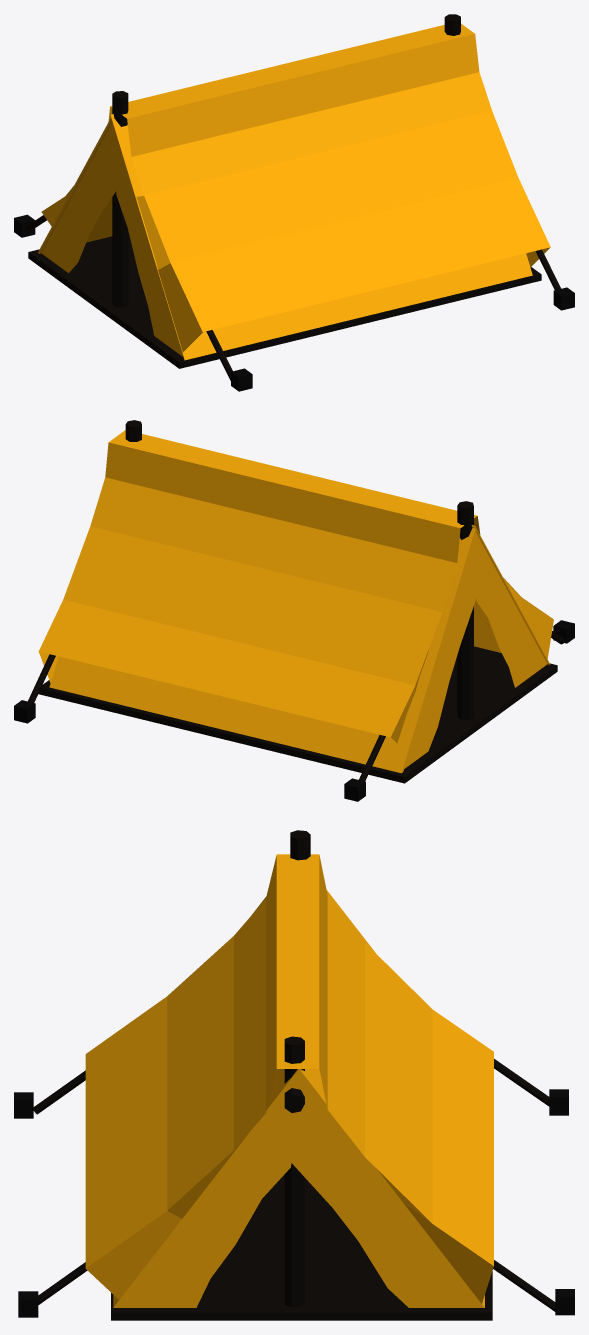
Rendered from Camp.obj.
3 views of the same model, one above another, from view 1: azimuth 30°, elevation 25°; view 2: azimuth 150°, elevation 25°; view 3: azimuth 270°, elevation 25° (orthographic). The views are drawn at different scales.
Parts seen in each view (by area): view 1: Cube.003_Cube.006; view 2: Cube.003_Cube.006; view 3: Cube.003_Cube.006.
Boxes of the visible parts, <box> form: Cube.003_Cube.006: <box>14,14,574,391</box>; Cube.003_Cube.006: <box>14,420,574,801</box>; Cube.003_Cube.006: <box>14,830,574,1320</box>.
Size of the model in its own units: 6.05 by 3.43 by 6.37.
